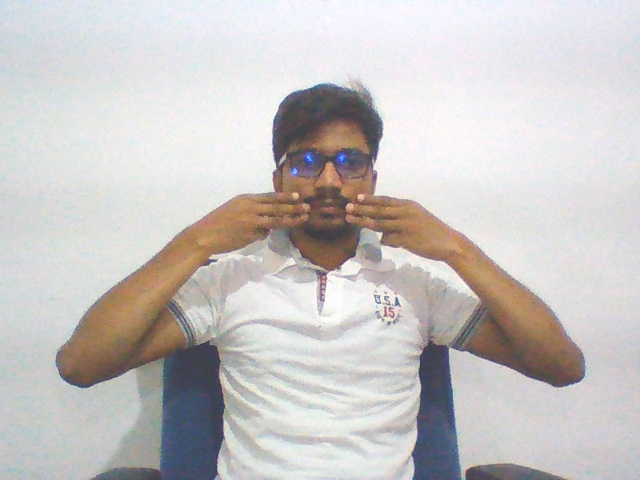cat: (176, 180, 471, 283)
